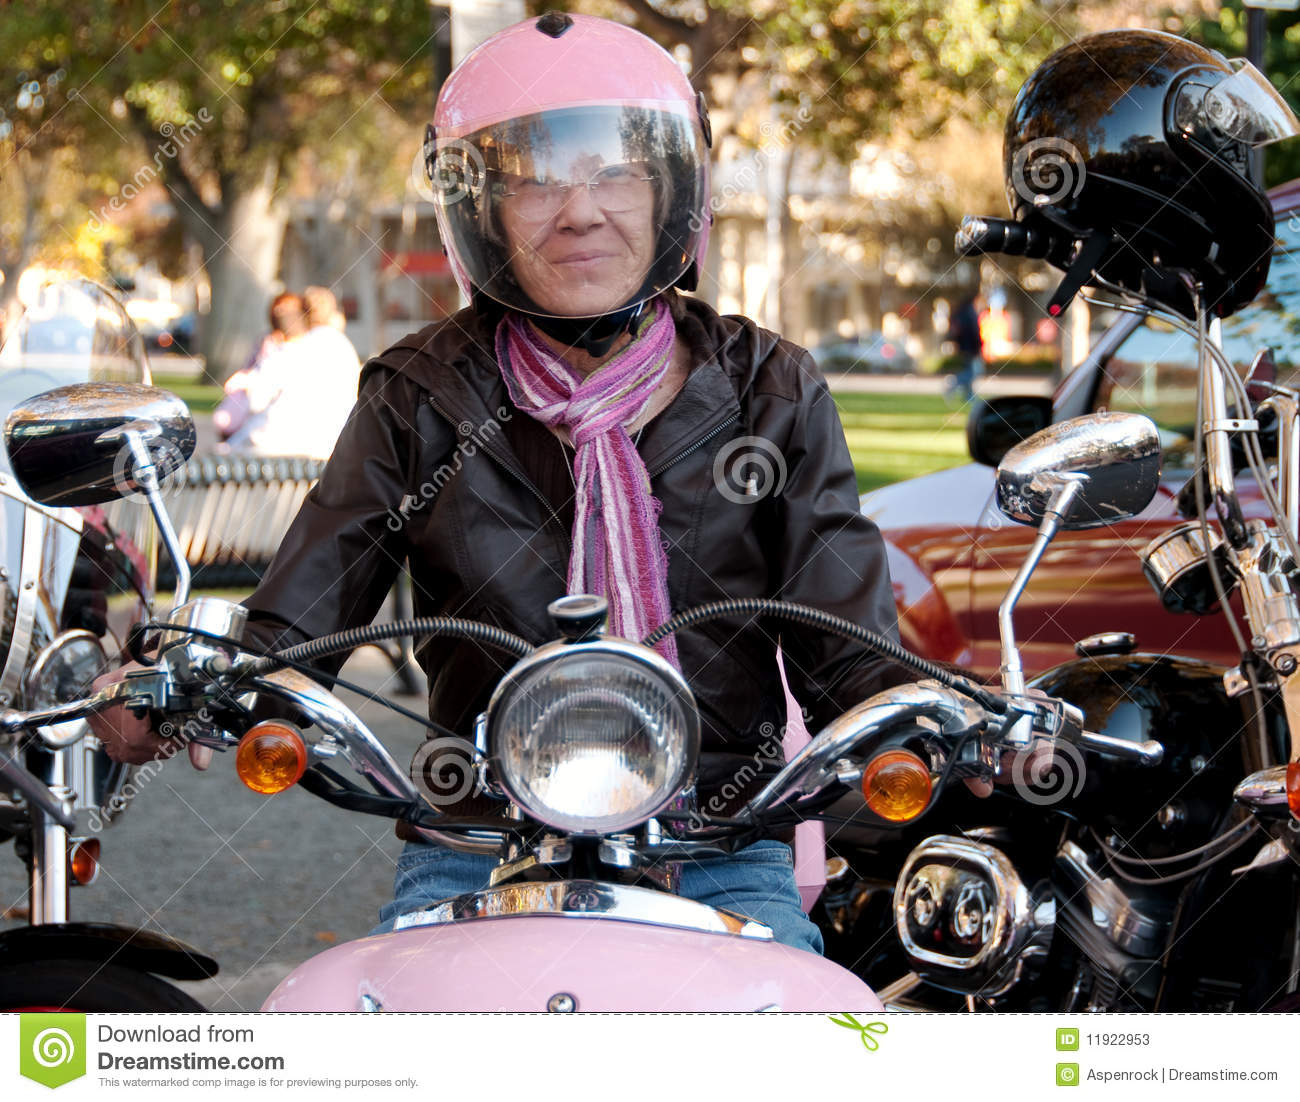helmet: (425, 19, 714, 292)
